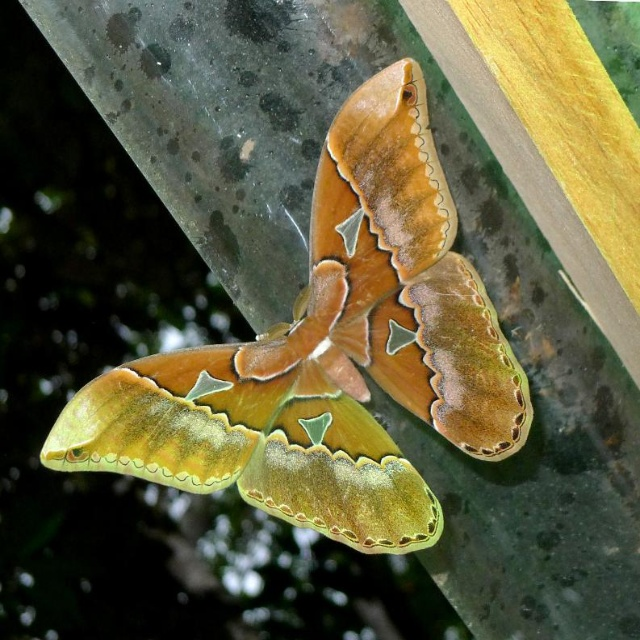Butterfly: (63, 126, 539, 543)
